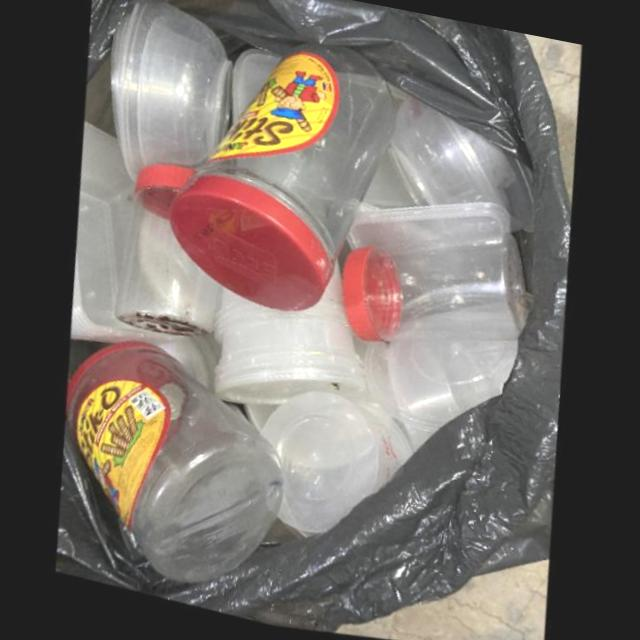hop_nhua: (169, 49, 397, 315), (65, 347, 284, 587), (70, 127, 186, 351), (260, 395, 413, 543), (111, 8, 234, 189), (342, 235, 528, 346), (113, 170, 218, 342)
